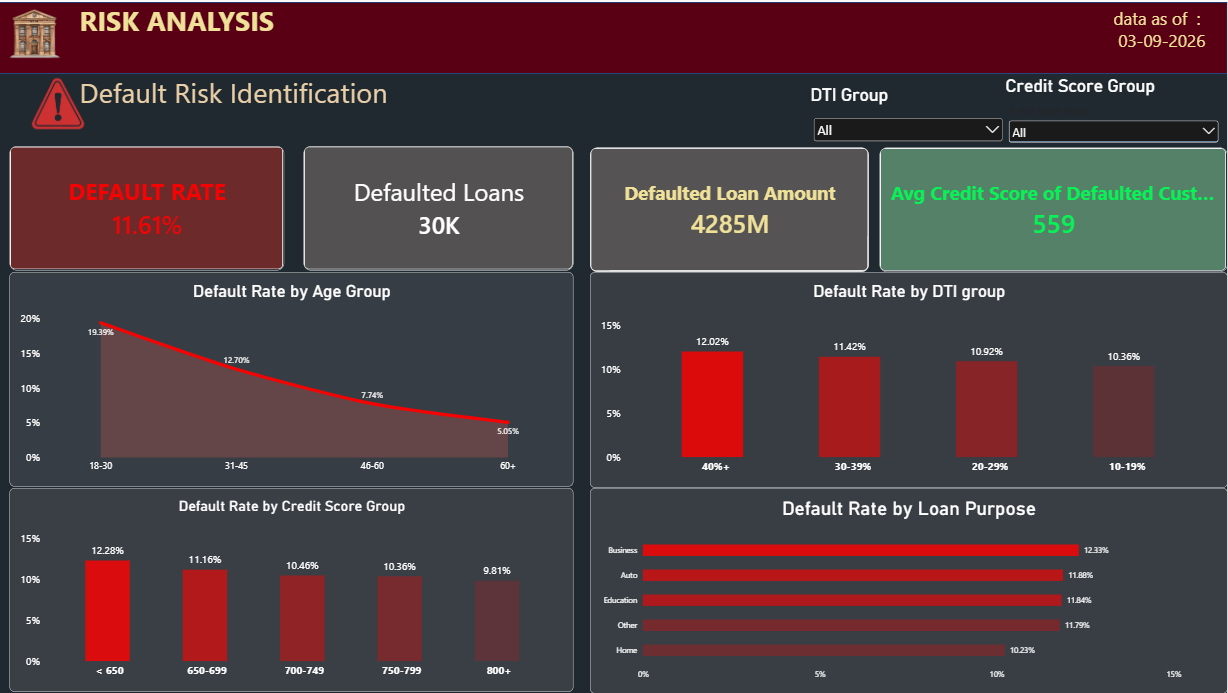

The dashboard page shown, as its layout file describes it:
{"tool":"powerbi","page":{"name":"LOAN ANLYSIS","canvas":[1920,1080],"ordinal":2},"visuals":[{"type":"shape","box":[0,0,1920.1,112.5],"z":0},{"type":"textbox","box":[0,0,1920.1,112.5],"z":1000},{"type":"textbox","box":[1741.9,7,150,96.1],"z":2000},{"type":"textbox","box":[0,112.5,717.4,77.4],"z":3000},{"type":"image","box":[0,9.4,112.5,79.7],"z":4000},{"type":"image","box":[35.2,112.5,112.5,93.8],"z":5000},{"type":"slicer","title":"DTI Group","fields":{"Values":["Loan_data.DTI Group"]},"box":[1268.4,128.9,304.8,96.1],"z":6000},{"type":"slicer","title":"Credit Score Group","fields":{"Values":["Loan_data.Credit Score Group"]},"box":[1573.1,114.9,337.6,121.9],"z":7000},{"type":"cardVisual","fields":{"Data":["Loan_data.Default Rate"]},"box":[16.4,225.1,429,194.6],"z":8000},{"type":"cardVisual","fields":{"Data":["Loan_data.Defaulted Loans"]},"box":[475.9,225.1,422,194.6],"z":9000},{"type":"cardVisual","fields":{"Data":["Loan_data.Defaulted Loan Amount"]},"box":[923.7,227.4,436.1,194.6],"z":10000},{"type":"cardVisual","fields":{"Data":["Loan_data.Average Credit Score of Defaulted Customers"]},"box":[1376.2,227.4,543.9,194.6],"z":11000},{"type":"areaChart","title":"Default Rate by Age Group","fields":{"Category":["Loan_data.Age Group"],"Y":["Loan_data.Default Rate"]},"box":[16.4,422,881.5,335.3],"z":12000},{"type":"clusteredColumnChart","title":"Default Rate by DTI group","fields":{"Category":["Loan_data.DTI Group"],"Y":["Loan_data.Default Rate"]},"box":[923.7,422,996.4,337.6],"z":13000},{"type":"clusteredColumnChart","fields":{"Category":["Loan_data.Credit Score Group"],"Y":["Loan_data.Default Rate"]},"box":[16.4,759.6,881.5,318.8],"z":14000},{"type":"barChart","title":"Default Rate by Loan Purpose","fields":{"Y":["Loan_data.Default Rate"],"Category":["Loan_data.LoanPurpose"]},"box":[923.7,759.6,996.4,321.2],"z":15000}]}

Visuals, with their boxes in screenshot pixels (x1, y1, x2, y2), scaled from the page's 1920x1080 canvas onto the 1228x693 screenshot:
shape: [left=0, top=0, right=1227, bottom=72]
textbox: [left=0, top=0, right=1227, bottom=72]
textbox: [left=1114, top=4, right=1210, bottom=66]
textbox: [left=0, top=72, right=459, bottom=122]
image: [left=0, top=6, right=72, bottom=57]
image: [left=23, top=72, right=94, bottom=132]
"DTI Group" slicer: [left=811, top=83, right=1006, bottom=144]
"Credit Score Group" slicer: [left=1006, top=74, right=1222, bottom=152]
cardVisual - Loan_data.Default Rate: [left=10, top=144, right=285, bottom=269]
cardVisual - Loan_data.Defaulted Loans: [left=304, top=144, right=574, bottom=269]
cardVisual - Loan_data.Defaulted Loan Amount: [left=591, top=146, right=870, bottom=271]
cardVisual - Loan_data.Average Credit Score of Defaulted Customers: [left=880, top=146, right=1227, bottom=271]
"Default Rate by Age Group" areaChart: [left=10, top=271, right=574, bottom=486]
"Default Rate by DTI group" clusteredColumnChart: [left=591, top=271, right=1227, bottom=487]
clusteredColumnChart - Loan_data.Credit Score Group x Loan_data.Default Rate: [left=10, top=487, right=574, bottom=692]
"Default Rate by Loan Purpose" barChart: [left=591, top=487, right=1227, bottom=692]
